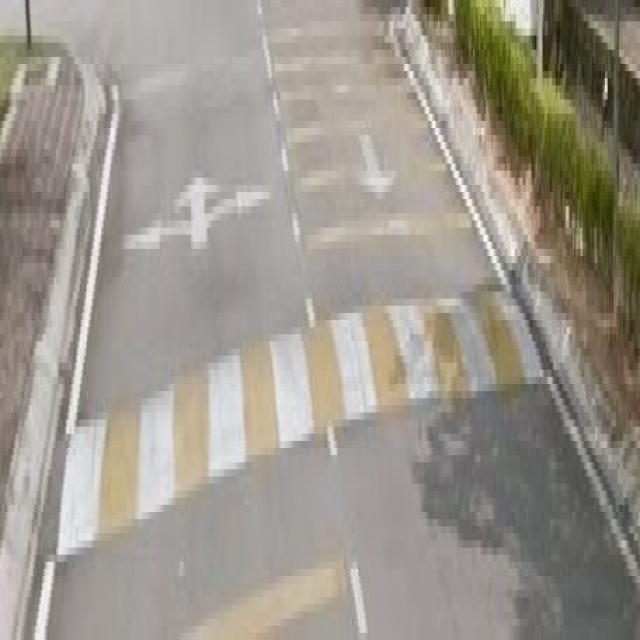speed-bump: (52, 285, 548, 571)
